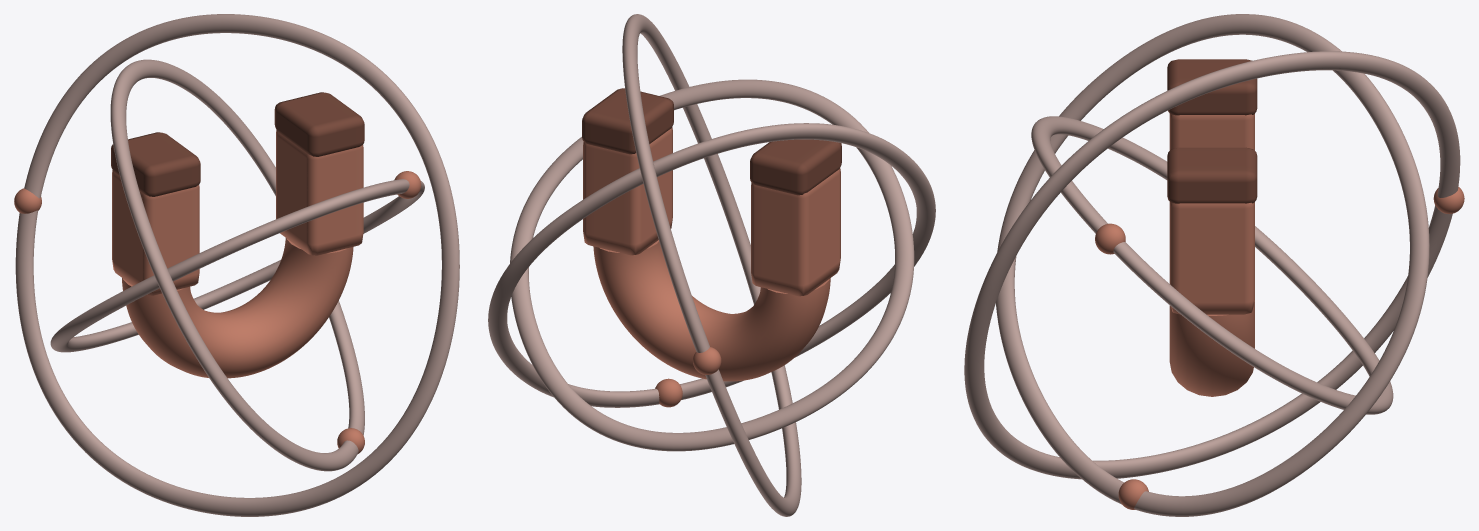
3 renders of one model, left to right at view 1: azimuth 30°, elevation 25°; view 2: azimuth 150°, elevation 25°; view 3: azimuth 270°, elevation 25°, orthographic. The views are drawn at different scales.
Bounding box in the file's own units: 0.9538 × 1.11 × 1.05.
